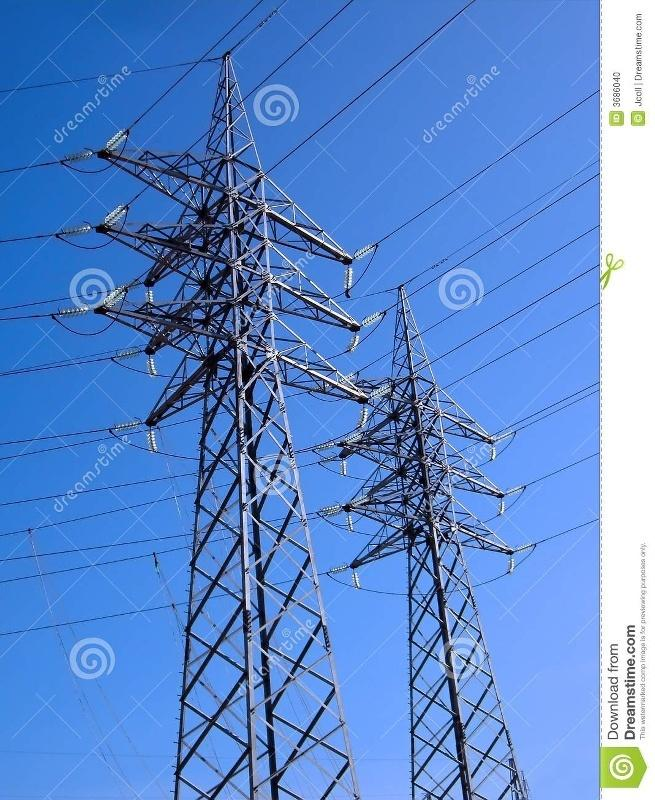power_tower: (84, 50, 378, 794), (332, 282, 536, 792)
